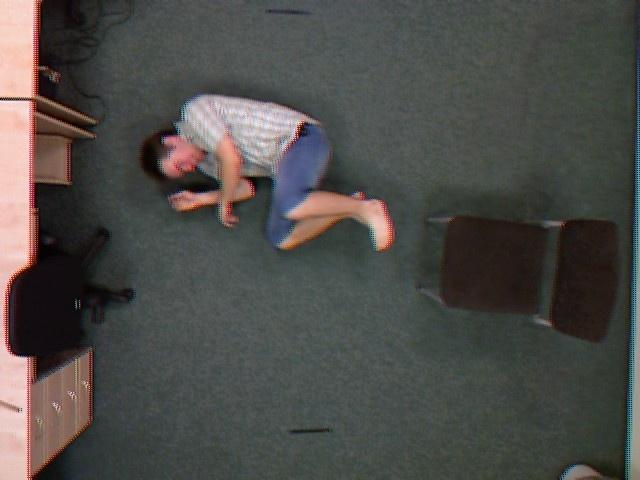fall: (136, 89, 395, 261)
